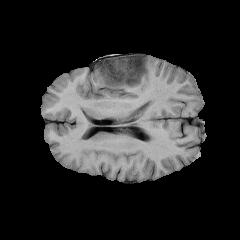glioma: (98, 56, 145, 88)
